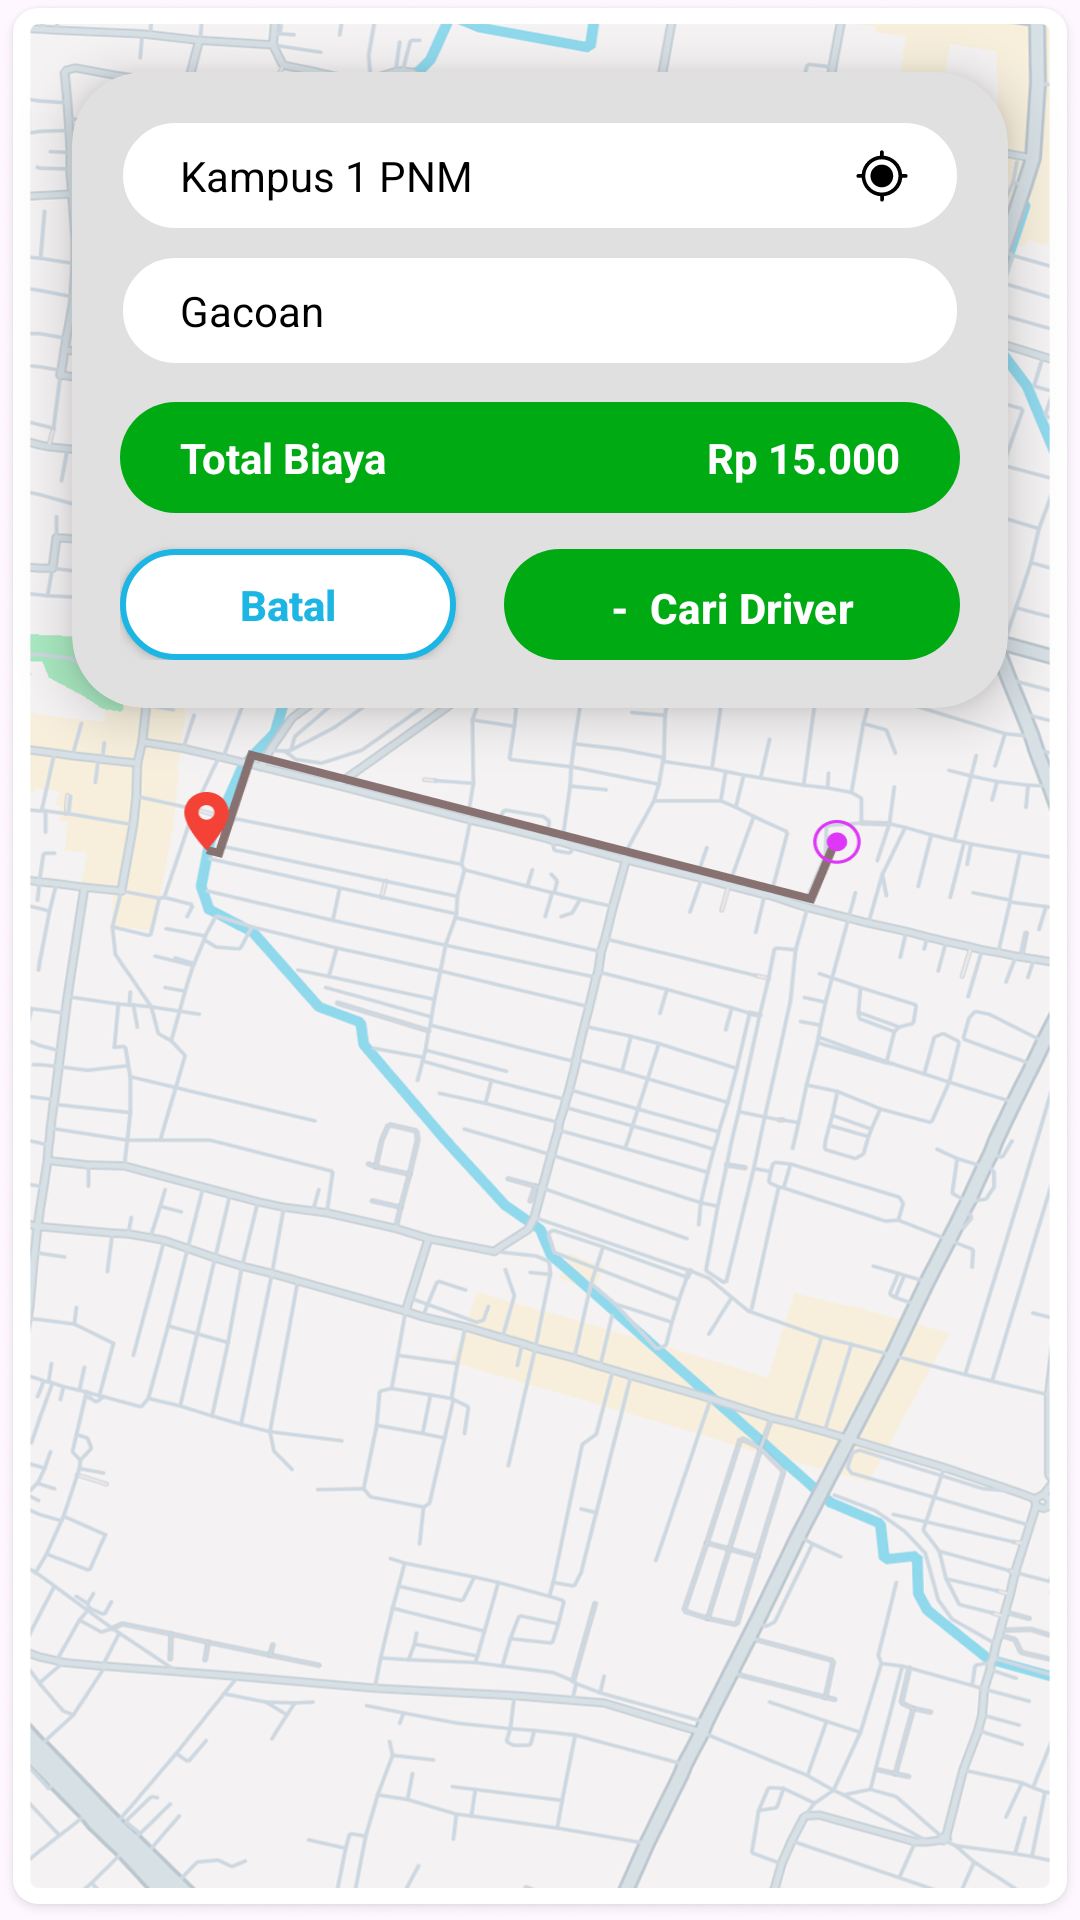

Point at icon controls on the screen. Image size 1080 x 1920, points as (x=x, y=y).
Ikon Titik Jemput: (x=882, y=176)
